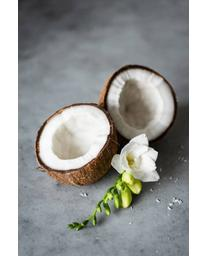coconut: (35, 102, 116, 186), (97, 63, 178, 147)
